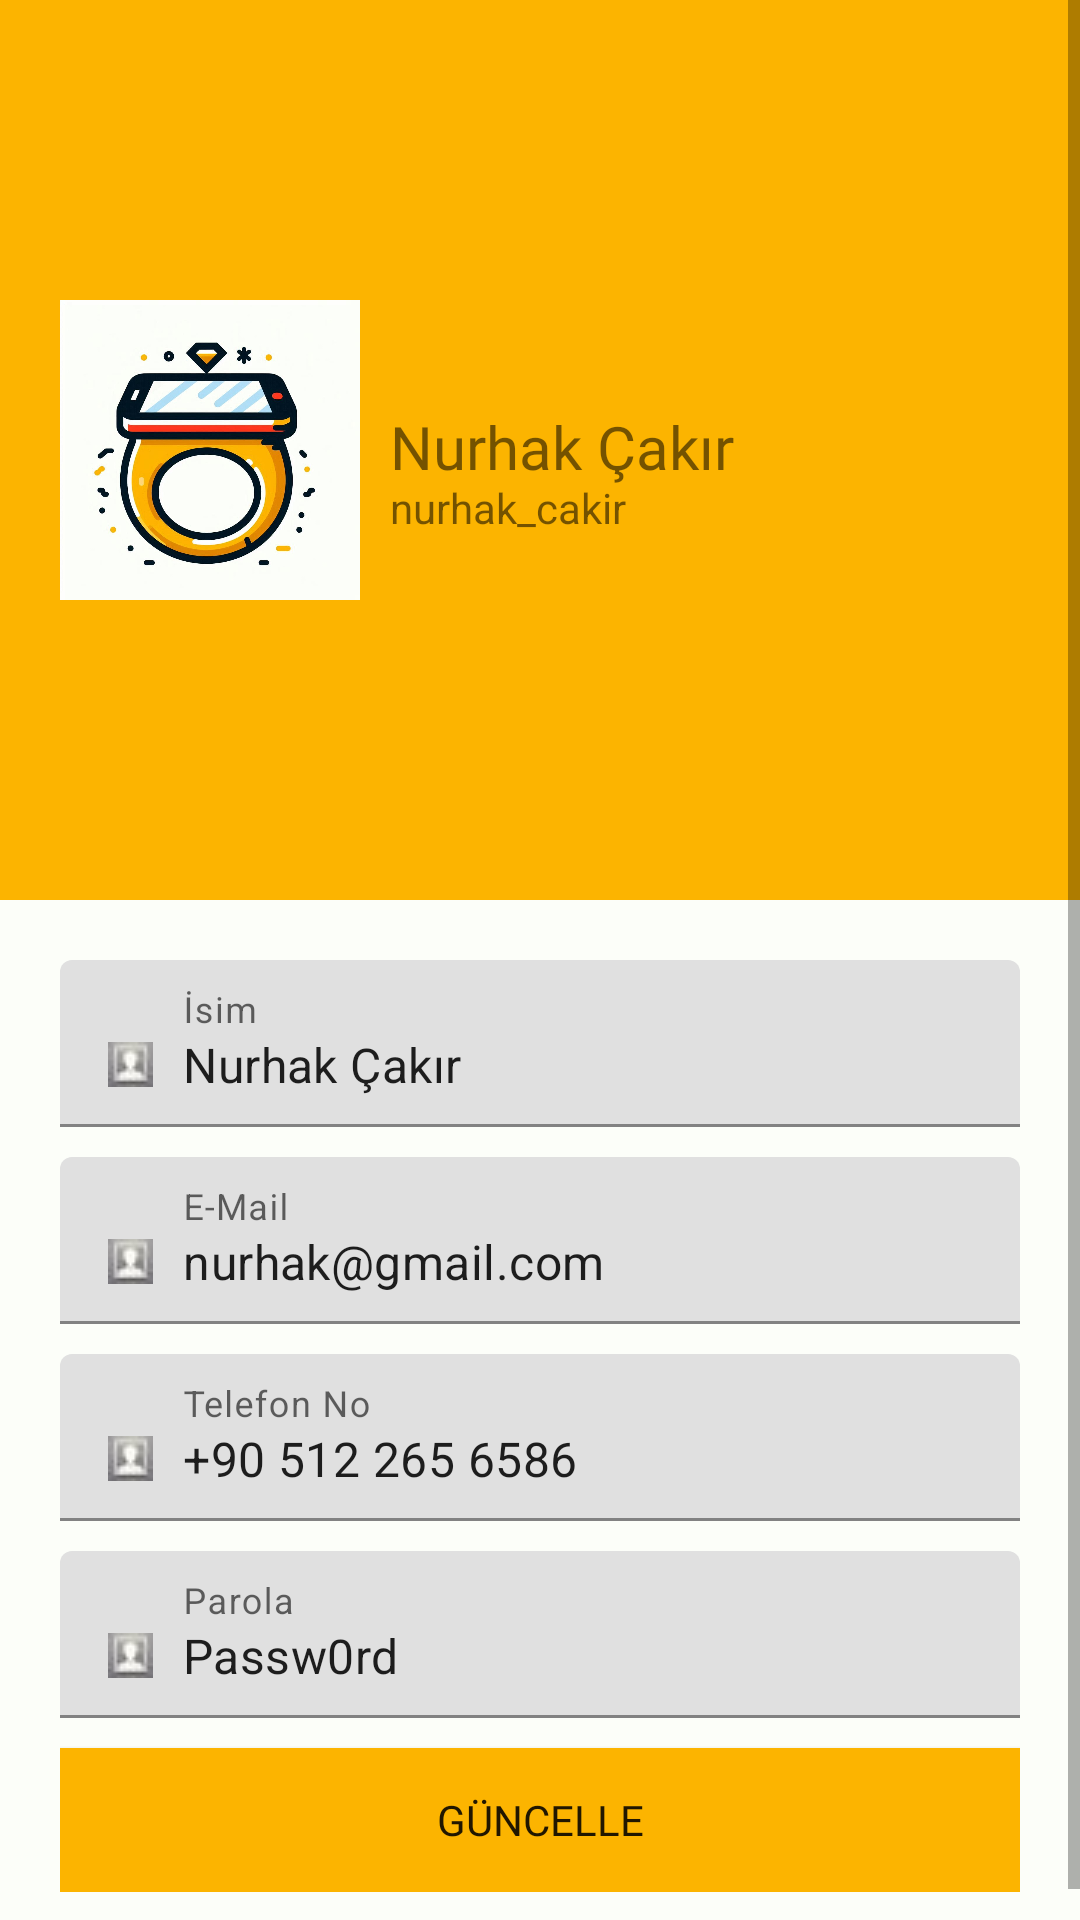

Icon bounding boxes for this 1080×1920 phone screenshot, format (x1, y1, x2, y2):
smart ring with phone: (60, 300, 360, 600)
